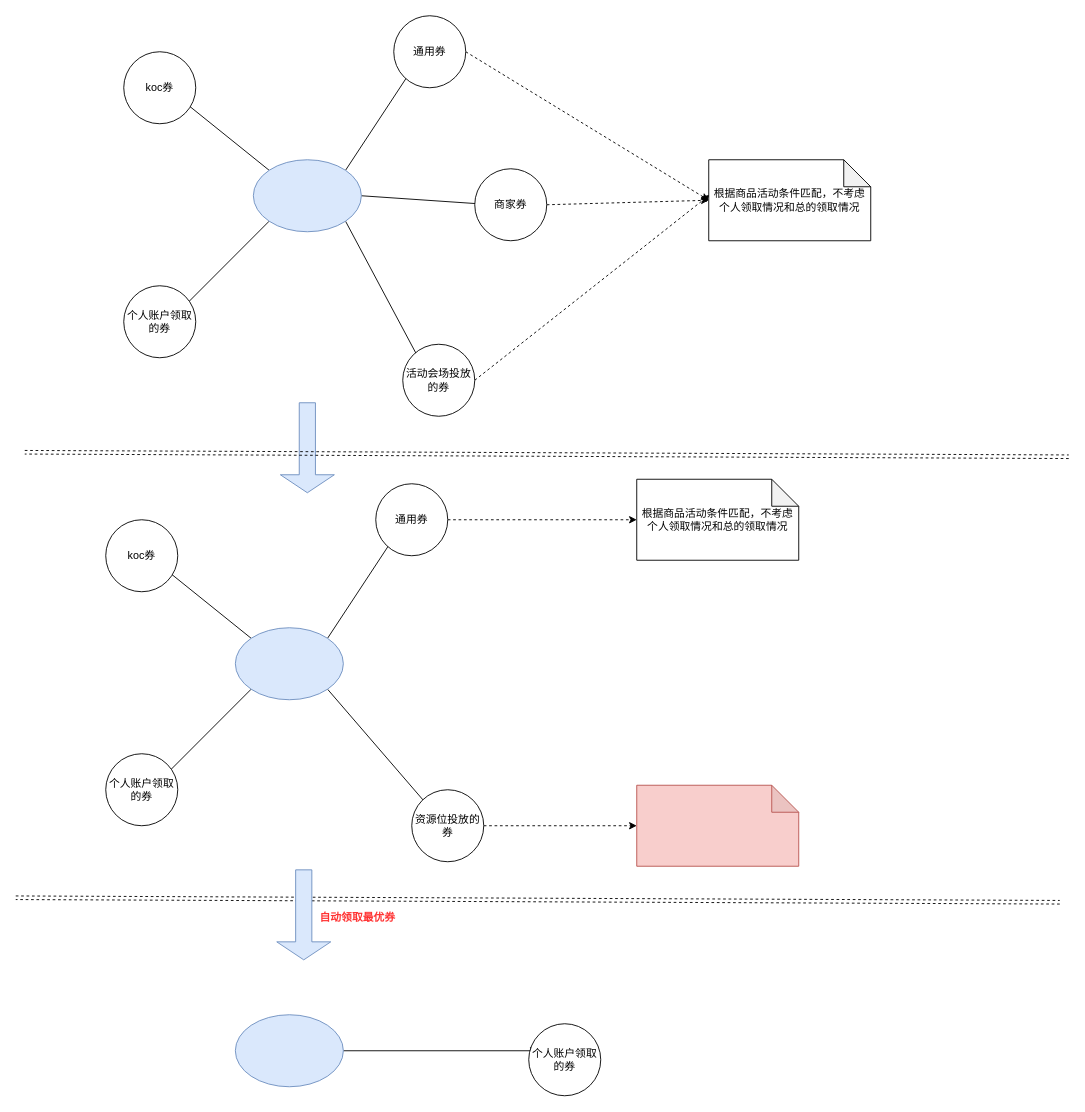
Some shapes in this 1085 by 1112 pixel diagram are drawn without their labels. Each missing label, with the centre of its shape:
下单批价: the point at 288,1050
商详: the point at 288,663
搜推/活动会场: the point at 306,195
根据商品活动条件匹配，考虑个人领取情况和总的领取情况: the point at 717,825
